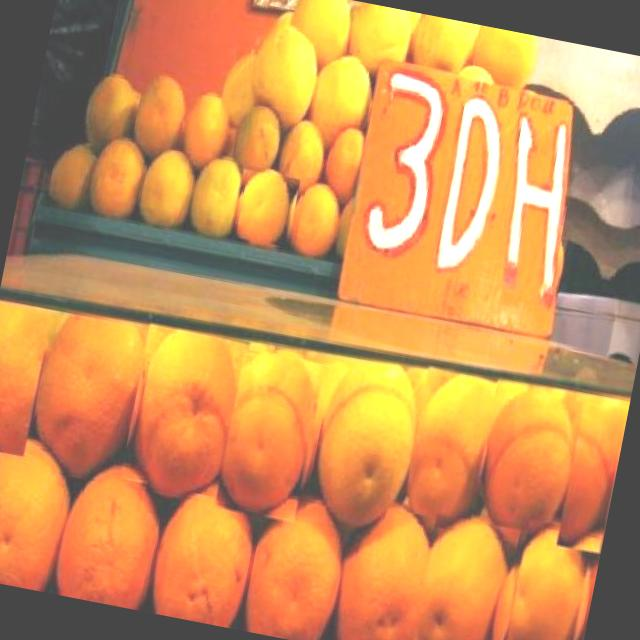Orange: (20, 288, 157, 492), (119, 323, 250, 500), (302, 362, 426, 532), (468, 382, 586, 550), (215, 350, 324, 524), (47, 456, 166, 610), (237, 495, 357, 640), (335, 491, 446, 640), (147, 486, 261, 629), (401, 365, 498, 524), (408, 514, 520, 640), (0, 423, 81, 593), (498, 519, 594, 640), (556, 401, 628, 555), (240, 19, 327, 120), (0, 303, 51, 457), (304, 52, 387, 140), (125, 69, 198, 154), (343, 1, 424, 74), (230, 169, 300, 248), (188, 153, 250, 240), (408, 13, 483, 84), (136, 144, 198, 228), (88, 135, 148, 219), (76, 70, 142, 146), (177, 89, 236, 170), (285, 0, 355, 67), (229, 102, 289, 178), (287, 180, 345, 258), (471, 27, 544, 87), (280, 117, 340, 185), (45, 140, 101, 208), (322, 125, 371, 199)
